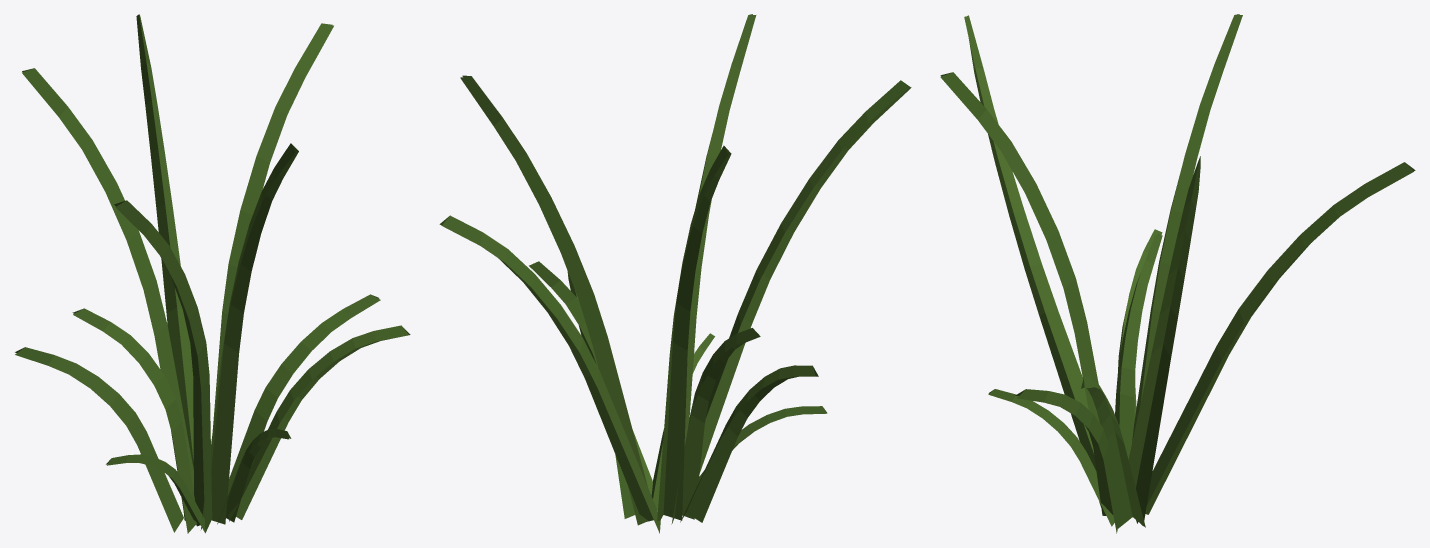
The model's file is grass.fbx.
3 views of the same model, side by side, from view 1: azimuth 30°, elevation 25°; view 2: azimuth 150°, elevation 25°; view 3: azimuth 270°, elevation 25° (orthographic).
Visible parts, largest first — view 1: Plane, Plane.004, Plane.006, Plane.007, Plane.002, Plane.003, Plane.008, Plane.001, Plane.005, Plane.010, Plane.009; view 2: Plane.006, Plane.007, Plane.002, Plane.004, Plane.008, Plane, Plane.001, Plane.005, Plane.009, Plane.010; view 3: Plane.004, Plane.007, Plane.002, Plane, Plane.006, Plane.001, Plane.005, Plane.003, Plane.010, Plane.008.
Boxes of the visible parts, left/top/right/bottom form: Plane: left=200, top=143, right=298, bottom=530; Plane.004: left=136, top=14, right=193, bottom=520; Plane.006: left=22, top=68, right=193, bottom=492; Plane.007: left=114, top=200, right=212, bottom=532; Plane.002: left=212, top=23, right=333, bottom=429; Plane.003: left=228, top=325, right=410, bottom=521; Plane.008: left=15, top=347, right=183, bottom=532; Plane.001: left=72, top=308, right=196, bottom=533; Plane.005: left=227, top=294, right=380, bottom=495; Plane.010: left=217, top=429, right=291, bottom=524; Plane.009: left=106, top=454, right=205, bottom=532; Plane.006: left=657, top=145, right=731, bottom=520; Plane.007: left=670, top=80, right=911, bottom=513; Plane.002: left=460, top=75, right=647, bottom=525; Plane.004: left=439, top=215, right=660, bottom=533; Plane.008: left=680, top=365, right=818, bottom=522; Plane: left=684, top=14, right=756, bottom=446; Plane.001: left=671, top=328, right=760, bottom=524; Plane.005: left=529, top=261, right=634, bottom=518; Plane.009: left=683, top=406, right=827, bottom=509; Plane.010: left=651, top=333, right=714, bottom=510; Plane.004: left=1136, top=162, right=1415, bottom=523; Plane.007: left=964, top=15, right=1101, bottom=507; Plane.002: left=1128, top=156, right=1200, bottom=525; Plane: left=940, top=72, right=1099, bottom=422; Plane.006: left=1132, top=14, right=1242, bottom=511; Plane.001: left=1115, top=234, right=1162, bottom=459; Plane.005: left=1081, top=376, right=1145, bottom=528; Plane.003: left=1015, top=389, right=1118, bottom=533; Plane.010: left=988, top=389, right=1114, bottom=526; Plane.008: left=1118, top=229, right=1162, bottom=418.
Size of the model in its own units: 392 by 494 by 475.
